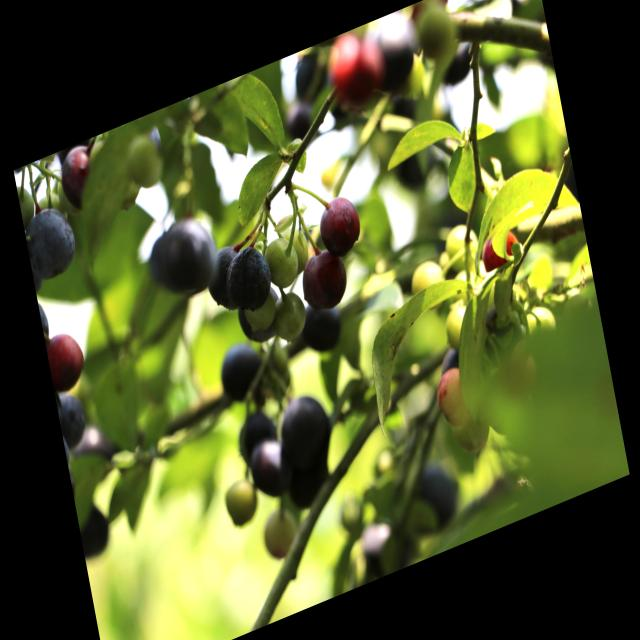blueberry: (275, 385, 335, 473), (160, 211, 218, 294), (298, 241, 353, 321), (223, 237, 278, 316), (316, 186, 366, 264), (217, 335, 266, 411), (246, 436, 292, 502)
blueberry-halfripe: (44, 324, 88, 398), (478, 224, 522, 278)
blueberry-unripe: (432, 363, 475, 433), (436, 294, 477, 361), (262, 230, 302, 292), (260, 505, 300, 566), (405, 255, 447, 311), (442, 220, 482, 276), (224, 474, 262, 530)
